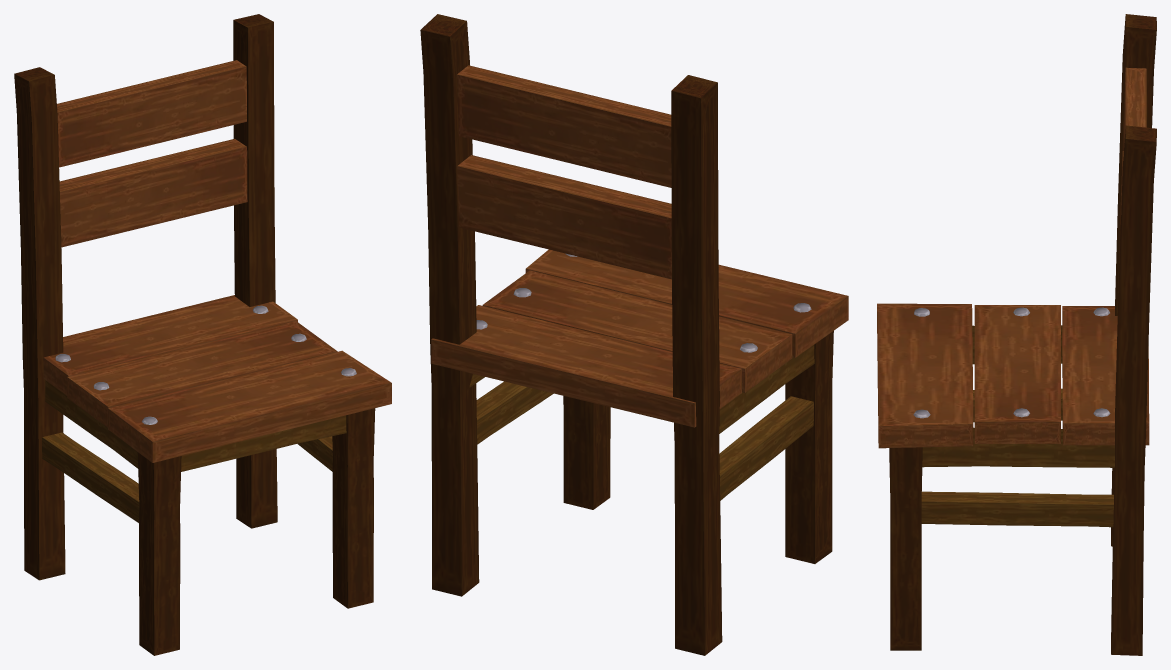
The model's file is prop_chair.glb.
The picture shows the model from 3 angles, left to right: view 1: azimuth 30°, elevation 25°; view 2: azimuth 150°, elevation 25°; view 3: azimuth 270°, elevation 25°; orthographic projection. The views are drawn at different scales.
Visible parts, largest first — view 1: Chair_1; view 2: Chair_1; view 3: Chair_1.
Part boxes in pixels (x1,y1,x2,y2): Chair_1: [14, 14, 391, 655]; Chair_1: [420, 14, 848, 655]; Chair_1: [877, 14, 1156, 655].
Size of the model in its own units: 0.5805 by 1.12 by 0.5489.
Materials: 2 (2 with a texture image).
